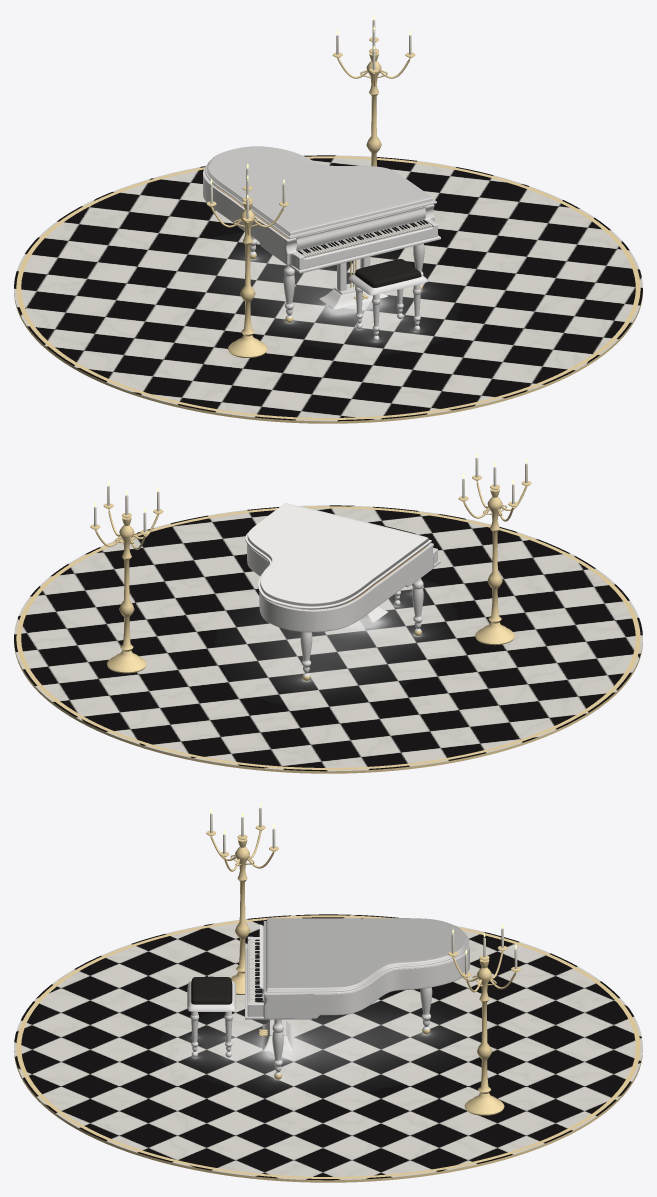
File: piano.glb
3 renders of one model, top to bottom at view 1: azimuth 30°, elevation 25°; view 2: azimuth 150°, elevation 25°; view 3: azimuth 270°, elevation 25°, orthographic.
Visible parts, largest first — view 1: Salonboden, Piano_Lid, ContactShadow, Piano_Case, Bench, Kandelaber_L, Kandelaber_R, Piano_Lyre, Piano_Legs; view 2: Salonboden, Piano_Lid, ContactShadow, Piano_Case, Kandelaber_L, Kandelaber_R, Piano_Legs; view 3: Salonboden, Piano_Lid, ContactShadow, Piano_Case, Kandelaber_R, Bench, Kandelaber_L, Piano_Legs, Piano_Lyre.
Boxes of the visible parts, bbox=[...] form: Salonboden: bbox=[14, 155, 642, 423]; Piano_Lid: bbox=[204, 146, 436, 239]; ContactShadow: bbox=[229, 250, 431, 344]; Piano_Case: bbox=[203, 167, 440, 273]; Bench: bbox=[348, 259, 427, 341]; Kandelaber_L: bbox=[206, 163, 288, 357]; Kandelaber_R: bbox=[333, 14, 415, 166]; Piano_Lyre: bbox=[319, 256, 387, 309]; Piano_Legs: bbox=[250, 236, 424, 322]; Salonboden: bbox=[14, 505, 642, 773]; Piano_Lid: bbox=[245, 503, 431, 609]; ContactShadow: bbox=[270, 587, 431, 688]; Piano_Case: bbox=[247, 506, 440, 632]; Kandelaber_L: bbox=[458, 453, 531, 645]; Kandelaber_R: bbox=[90, 481, 163, 673]; Piano_Legs: bbox=[300, 578, 423, 680]; Salonboden: bbox=[14, 914, 642, 1182]; Piano_Lid: bbox=[263, 918, 469, 994]; ContactShadow: bbox=[185, 1016, 445, 1084]; Piano_Case: bbox=[245, 924, 469, 1019]; Kandelaber_R: bbox=[448, 923, 520, 1115]; Bench: bbox=[187, 976, 235, 1057]; Kandelaber_L: bbox=[206, 802, 278, 994]; Piano_Legs: bbox=[272, 987, 432, 1079]; Piano_Lyre: bbox=[262, 1019, 293, 1051].
Bounding box in the file's own units: 5.2 × 1.62 × 5.2.
Materials: 10 (2 with a texture image).
